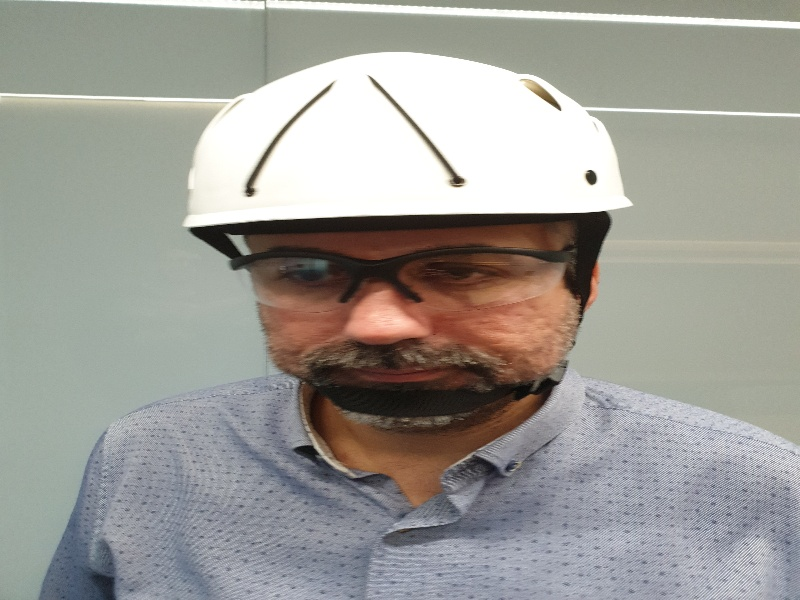Baret: (187, 51, 634, 219)
Gozluk: (227, 247, 583, 305)
